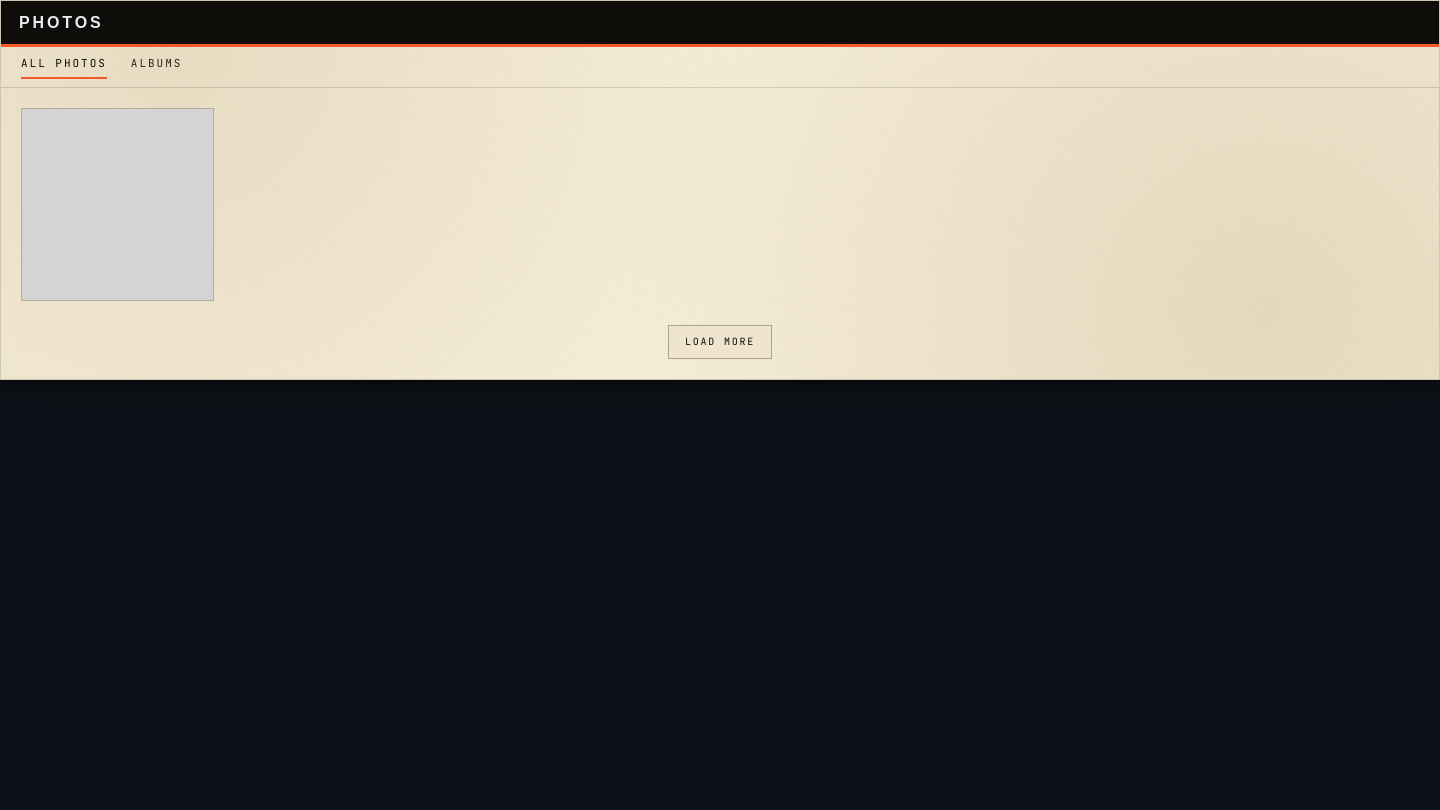
Test: AlbumDetail — failed REFRESH of loaded photos › keeps loaded photos, header and Back visible
Click the tab "ALBUMS" at (157, 67), box [131,55,182,79]
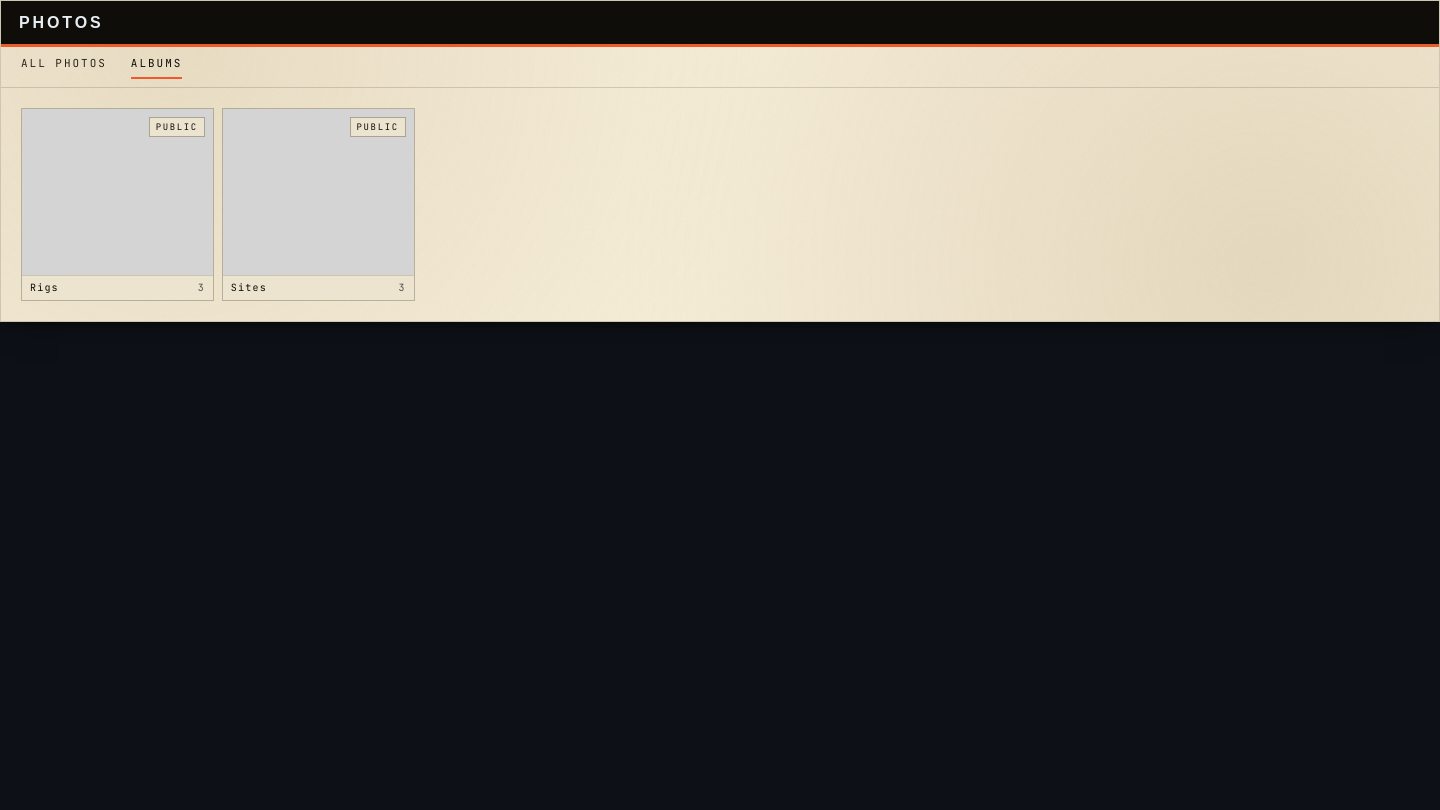
Click the button "Rigs 3 PUBLIC" at (117, 204), box [21,108,214,301]
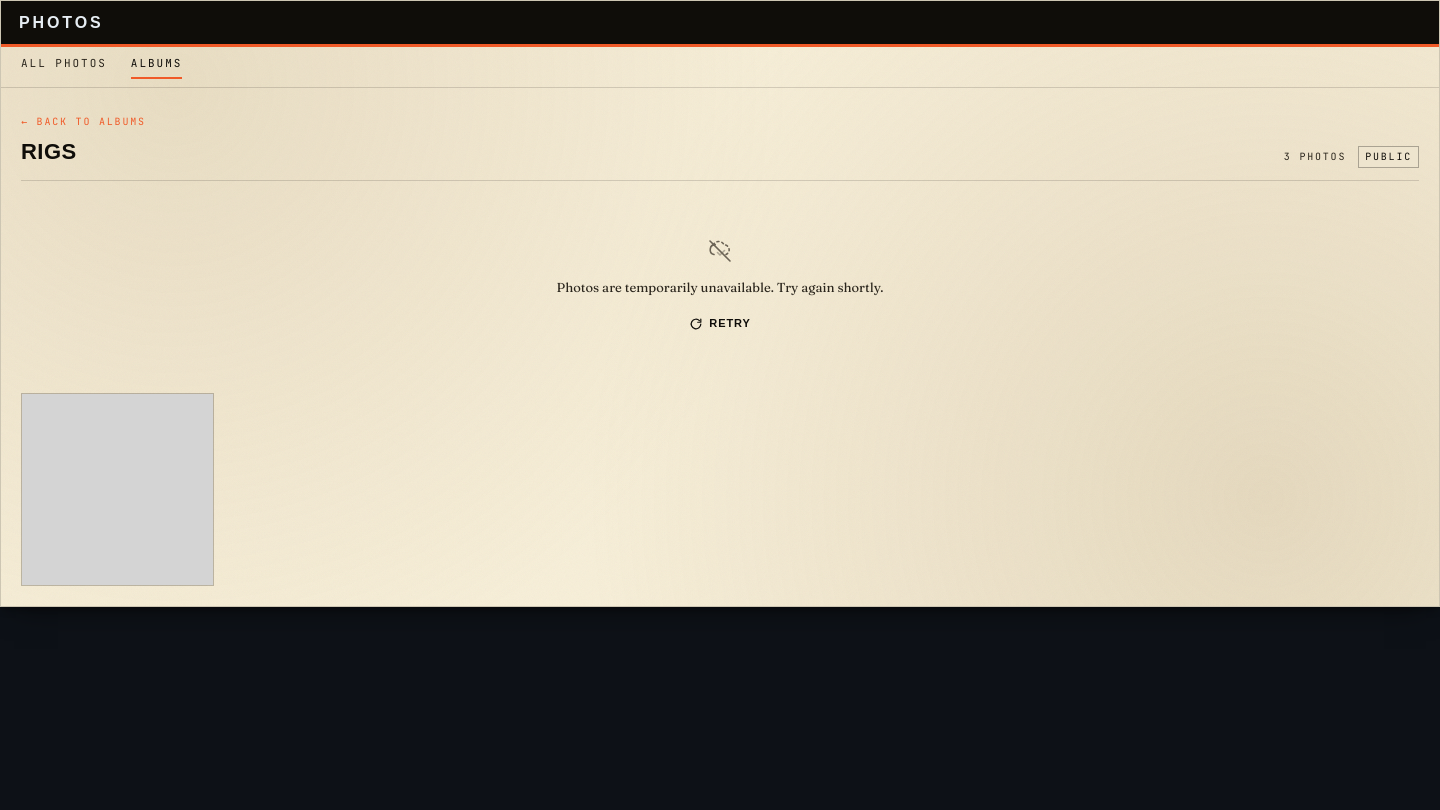
Expected: the heading "Rigs" is shown, [21,139,76,164]
Expected: the button "← BACK TO ALBUMS" is shown, [21,114,146,130]
